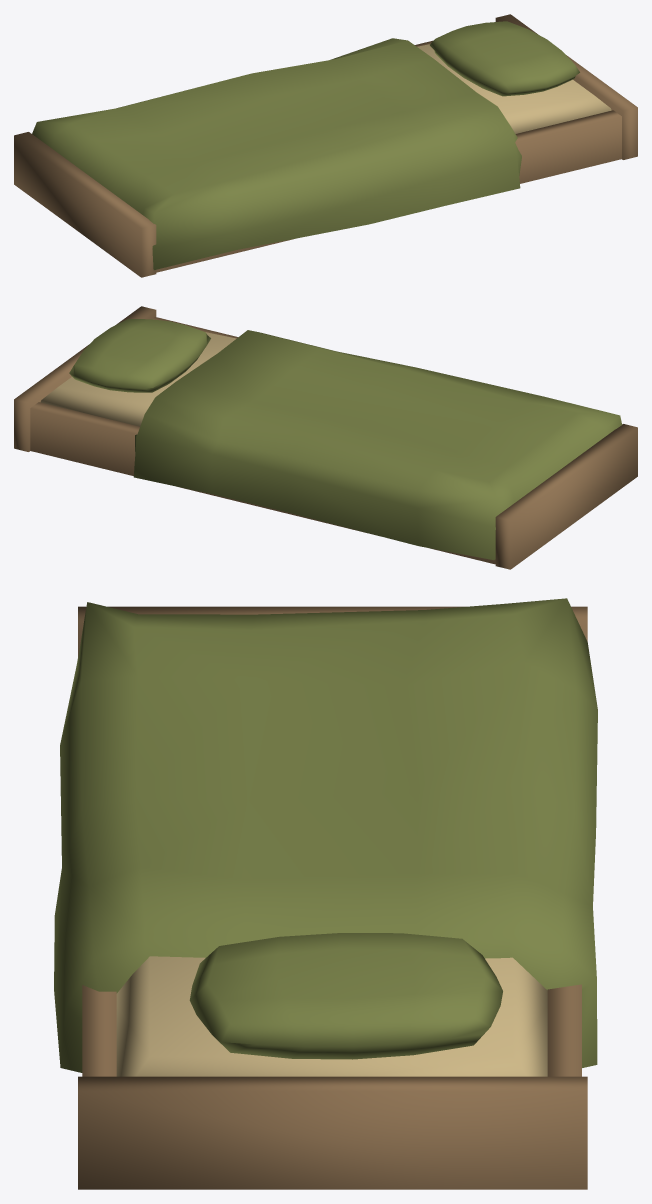
Rendered from rpgpp_ag_bed_02b.fbx.
3 renders of one model, top to bottom at view 1: azimuth 30°, elevation 25°; view 2: azimuth 150°, elevation 25°; view 3: azimuth 270°, elevation 25°, orthographic. The views are drawn at different scales.
Parts seen in each view (by area): view 1: rpgpp_ag_bed_02b; view 2: rpgpp_ag_bed_02b; view 3: rpgpp_ag_bed_02b.
Boxes of the visible parts, x1,y1,x2,y2 form: rpgpp_ag_bed_02b: (14, 14, 637, 277); rpgpp_ag_bed_02b: (14, 306, 637, 569); rpgpp_ag_bed_02b: (54, 598, 597, 1189).
Bounding box in the file's own units: 2.58 × 0.3815 × 1.22.
